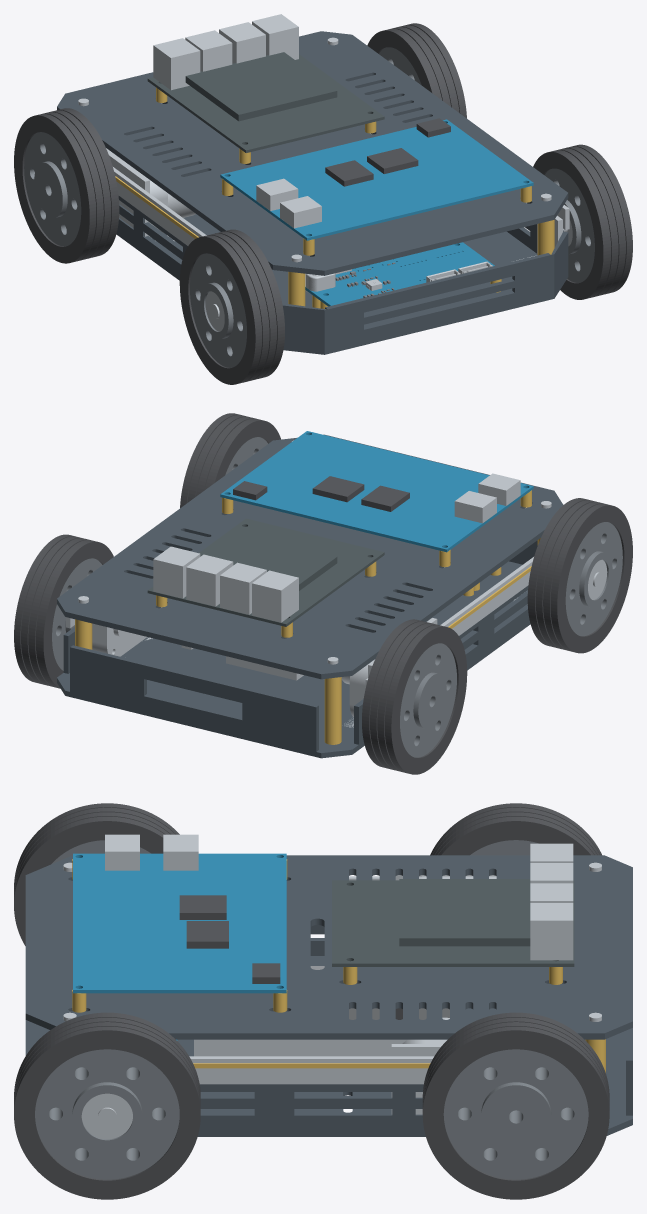
File: EdgeMind_Assembly.glb
3 views of the same model, one above another, from view 1: azimuth 30°, elevation 25°; view 2: azimuth 150°, elevation 25°; view 3: azimuth 270°, elevation 25° (orthographic). The views are drawn at different scales.
Visible parts, largest first — view 1: 上层可拆托盘 Z64 / 板卡 Z76, FPGA V3 板面参考138.049×91.567, 前通风护板, 后驱动轮胎L, 前从动轮胎L, 前从动轮胎R, LPi4A 包络参考84.455×103.814, LPi4A核心板参考, 下层底板 260×180×3, 后驱轮毂参考L, 前轴承轮毂L, 现有电源板 STEP 0 (+19 smaller); view 2: 上层可拆托盘 Z64 / 板卡 Z76, FPGA V3 板面参考138.049×91.567, 下层底板 260×180×3, 后护板与线束出口, 前从动轮胎L, 后驱动轮胎L, 后驱动轮胎R, LPi4A 包络参考84.455×103.814, 后驱轮毂参考L, 前轴承轮毂L, 前从动轮胎R, LPi4A核心板参考 (+16 smaller); view 3: 上层可拆托盘 Z64 / 板卡 Z76, FPGA V3 板面参考138.049×91.567, 后驱轮毂参考R, 后驱动轮胎R, 前从动轮胎R, 前轴承轮毂R, 侧护板右, LPi4A 包络参考84.455×103.814, LPi4A核心板参考, 前从动轮胎L, 银色侧护边R, 后驱动轮胎L (+16 smaller).
Boxes of the visible parts, bbox=[...] form: 上层可拆托盘 Z64 / 板卡 Z76: bbox=[57, 31, 568, 275]; FPGA V3 板面参考138.049×91.567: bbox=[220, 119, 533, 240]; 前通风护板: bbox=[325, 253, 550, 348]; 后驱动轮胎L: bbox=[14, 108, 119, 263]; 前从动轮胎L: bbox=[179, 229, 284, 384]; 前从动轮胎R: bbox=[533, 144, 632, 299]; LPi4A 包络参考84.455×103.814: bbox=[147, 54, 384, 152]; LPi4A核心板参考: bbox=[185, 52, 337, 121]; 下层底板 260×180×3: bbox=[116, 214, 568, 354]; 后驱轮毂参考L: bbox=[24, 132, 81, 246]; 前轴承轮毂L: bbox=[190, 253, 246, 367]; 现有电源板 STEP 0: bbox=[305, 242, 494, 306]; 上层可拆托盘 Z64 / 板卡 Z76: bbox=[57, 434, 563, 679]; FPGA V3 板面参考138.049×91.567: bbox=[220, 431, 533, 552]; 下层底板 260×180×3: bbox=[57, 561, 530, 758]; 后护板与线束出口: bbox=[70, 645, 318, 751]; 前从动轮胎L: bbox=[527, 498, 632, 653]; 后驱动轮胎L: bbox=[362, 619, 467, 774]; 后驱动轮胎R: bbox=[14, 534, 113, 688]; LPi4A 包络参考84.455×103.814: bbox=[147, 518, 384, 626]; 后驱轮毂参考L: bbox=[400, 643, 456, 757]; 前轴承轮毂L: bbox=[565, 522, 622, 636]; 前从动轮胎R: bbox=[180, 413, 281, 507]; LPi4A核心板参考: bbox=[208, 533, 337, 590]; 上层可拆托盘 Z64 / 板卡 Z76: bbox=[25, 855, 632, 1039]; FPGA V3 板面参考138.049×91.567: bbox=[73, 853, 286, 993]; 后驱轮毂参考R: bbox=[443, 1049, 588, 1179]; 后驱动轮胎R: bbox=[422, 1012, 609, 1199]; 前从动轮胎R: bbox=[14, 1012, 200, 1199]; 前轴承轮毂R: bbox=[35, 1049, 179, 1179]; 侧护板右: bbox=[199, 1084, 424, 1130]; LPi4A 包络参考84.455×103.814: bbox=[332, 880, 574, 966]; LPi4A核心板参考: bbox=[399, 879, 530, 946]; 前从动轮胎L: bbox=[14, 803, 179, 945]; 银色侧护边R: bbox=[189, 1056, 433, 1084]; 后驱动轮胎L: bbox=[430, 803, 601, 855].
Bounding box in the file's own units: 0.234 × 0.0964 × 0.265.
